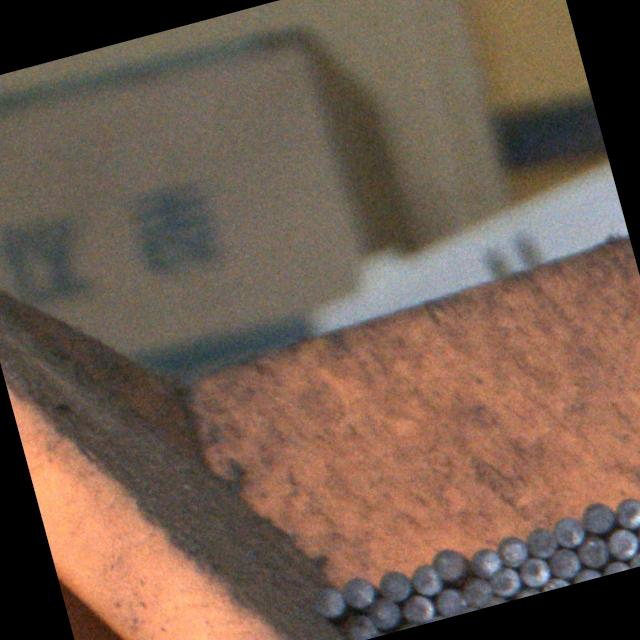tool: (308, 582, 348, 620), (463, 542, 502, 580), (521, 523, 560, 561), (375, 565, 413, 603), (364, 594, 402, 631), (396, 590, 435, 626), (603, 524, 640, 561), (550, 512, 588, 548), (579, 497, 615, 535), (457, 572, 494, 608), (430, 545, 466, 582), (494, 532, 530, 569), (544, 545, 582, 580), (486, 562, 522, 598), (574, 534, 610, 570), (340, 573, 376, 609), (430, 585, 467, 620), (515, 554, 552, 589), (336, 609, 376, 640), (408, 560, 442, 596), (610, 493, 640, 531), (632, 516, 640, 552), (627, 547, 640, 568)
